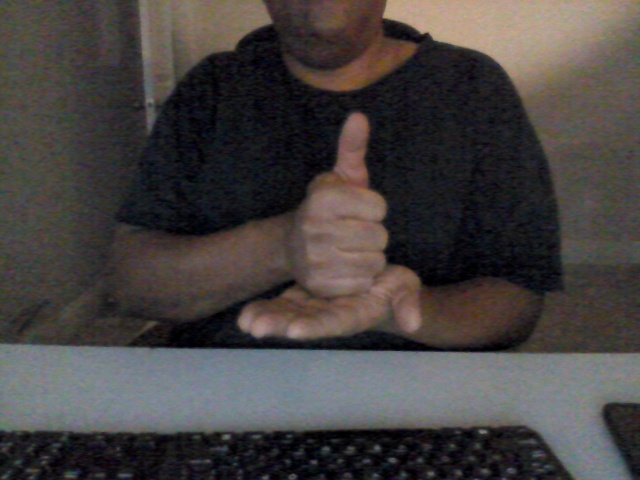help: (235, 110, 436, 334)
